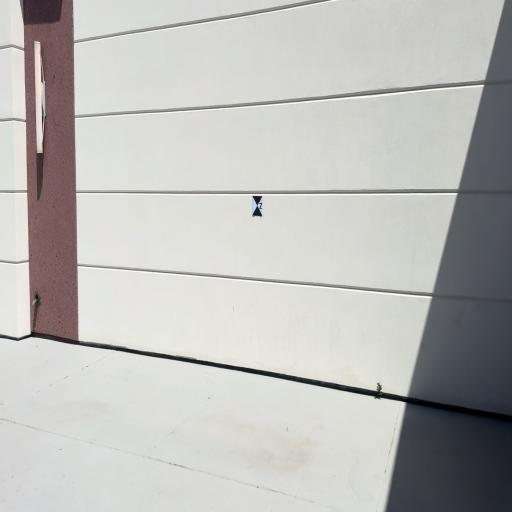target7: (252, 195, 264, 216)
